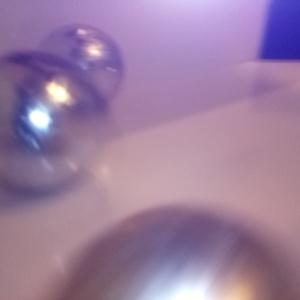alive_ball: (52, 206, 290, 300), (1, 50, 110, 196), (36, 24, 123, 110)
